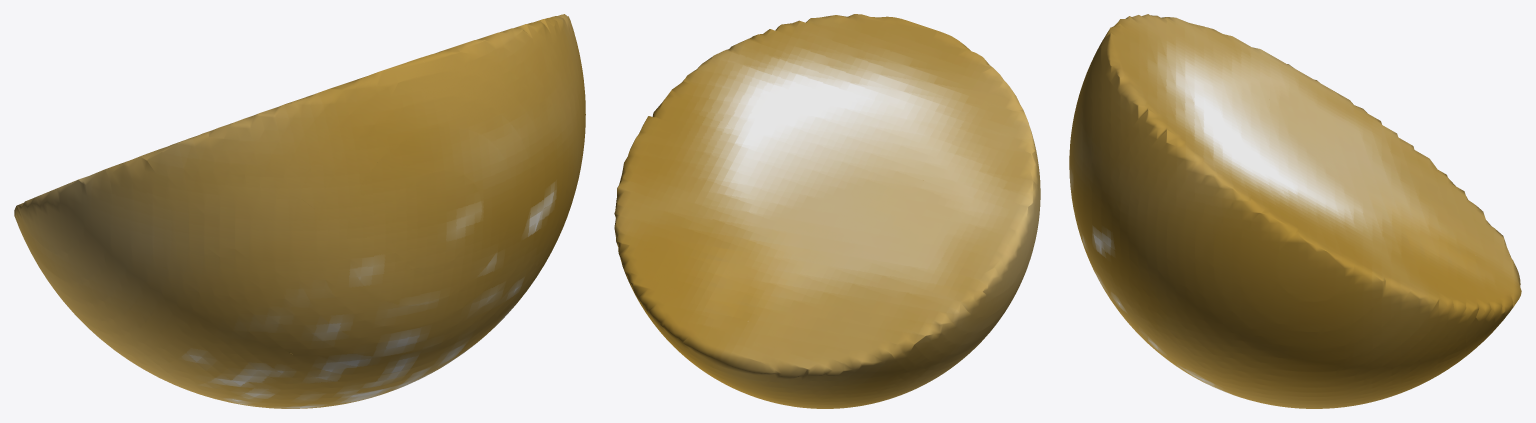
File: top bun.fbx
3 views of the same model, side by side, from view 1: azimuth 30°, elevation 25°; view 2: azimuth 150°, elevation 25°; view 3: azimuth 270°, elevation 25° (orthographic). The views are drawn at different scales.
Parts seen in each view (by area): view 1: Layer_1; view 2: Layer_1; view 3: Layer_1.
Boxes of the visible parts, x1,y1,x2,y2 form: Layer_1: [14, 14, 585, 408]; Layer_1: [614, 14, 1040, 408]; Layer_1: [1069, 14, 1521, 408].
Size of the model in its own units: 0.319 by 0.2949 by 0.2468.
